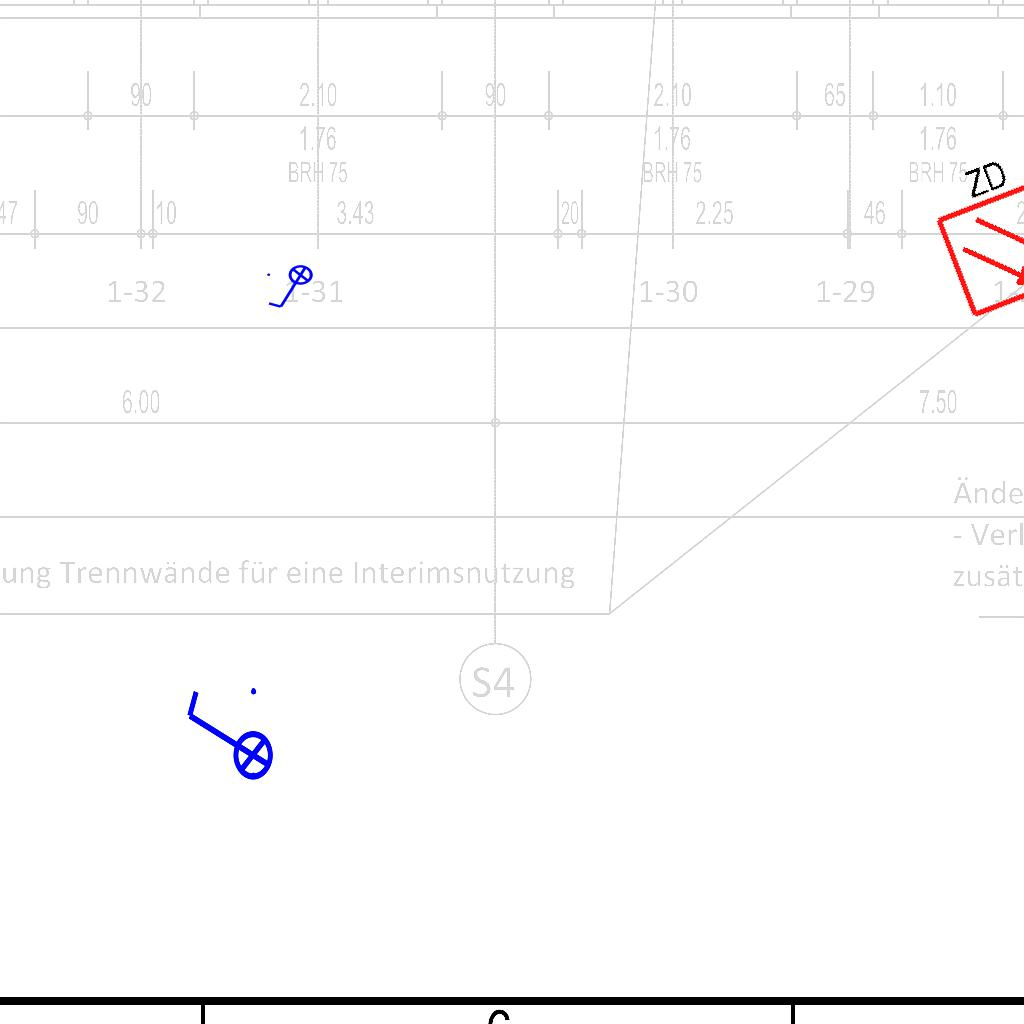Ausschalter_beleuchtet: (179, 682, 275, 794), (264, 264, 320, 312)
ZD_Melder_in_Zwischendecke_mit_Revisionsoeffnung_mind_40_x_40_cm: (915, 142, 1024, 323)
